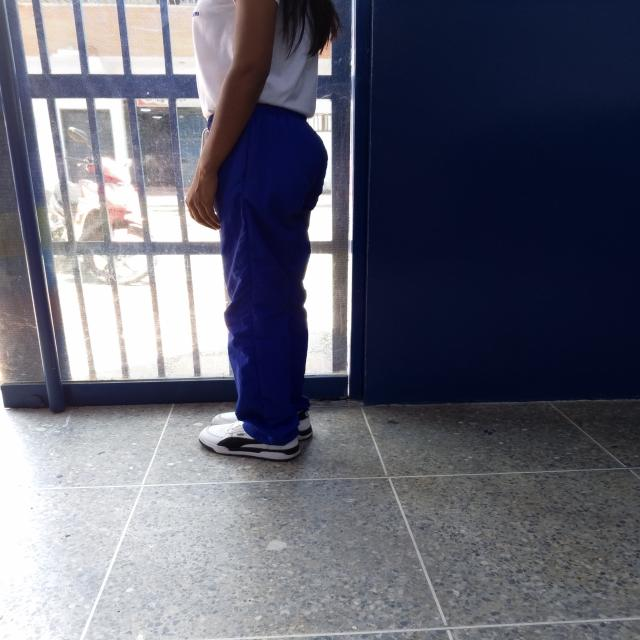uniforme_superior: (206, 102, 329, 446)
